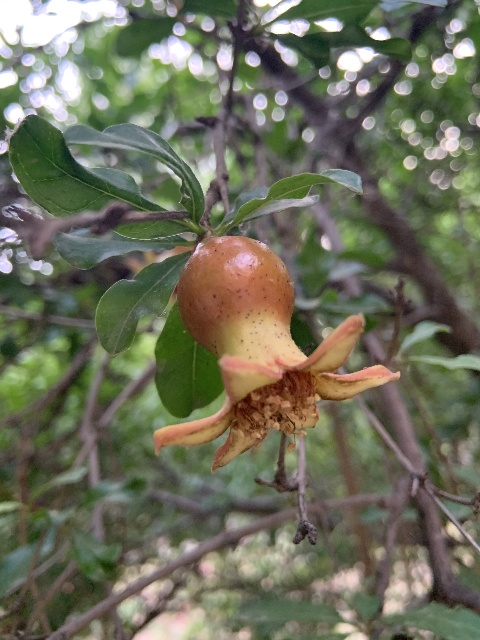early-fruit: (152, 234, 396, 471)
